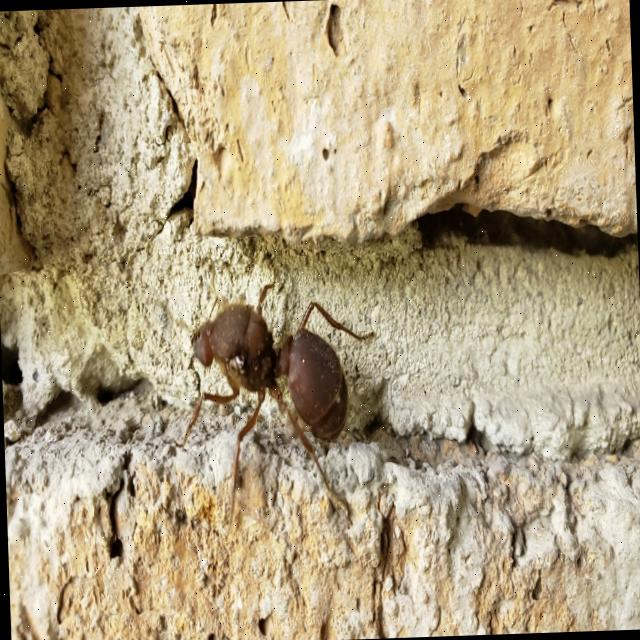Alive-Female-Dealate: (174, 290, 384, 531)
